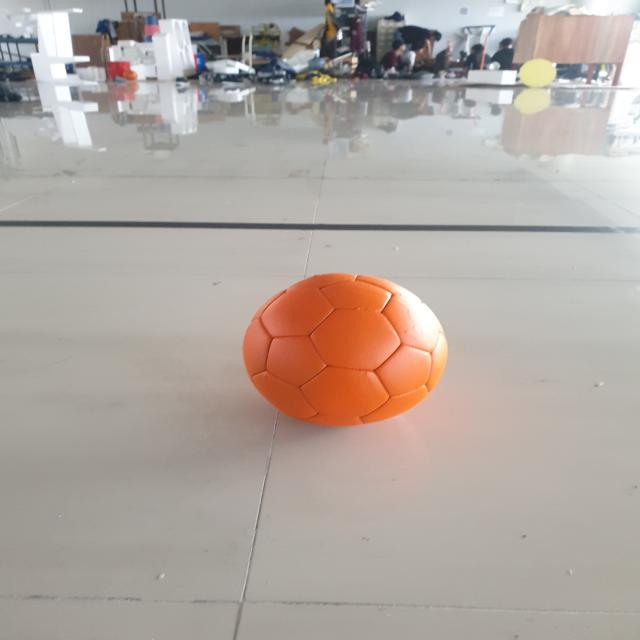bola: (238, 268, 460, 434)
